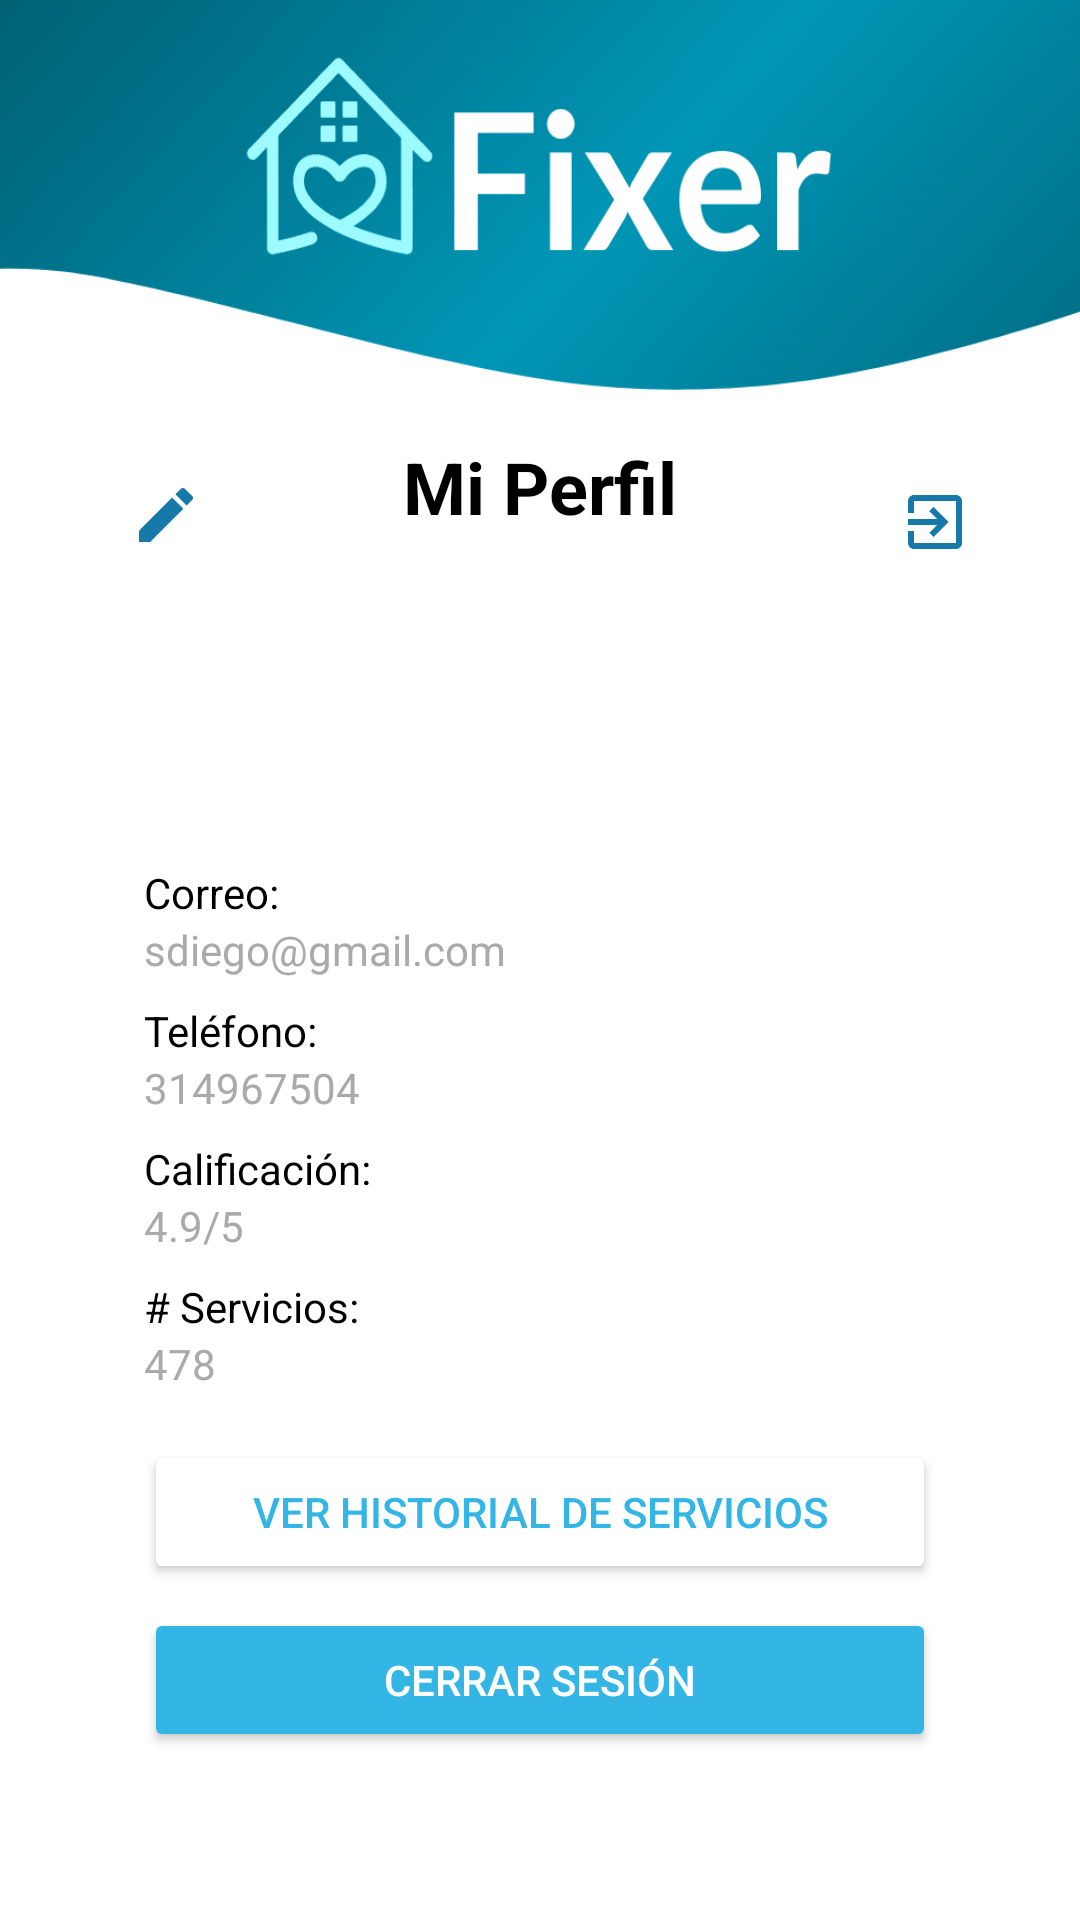

Icons on this 1080px x 1920px Android screen, each with the point to tap as [x,y]:
edit: [166,515]
exit to app: [935,522]
